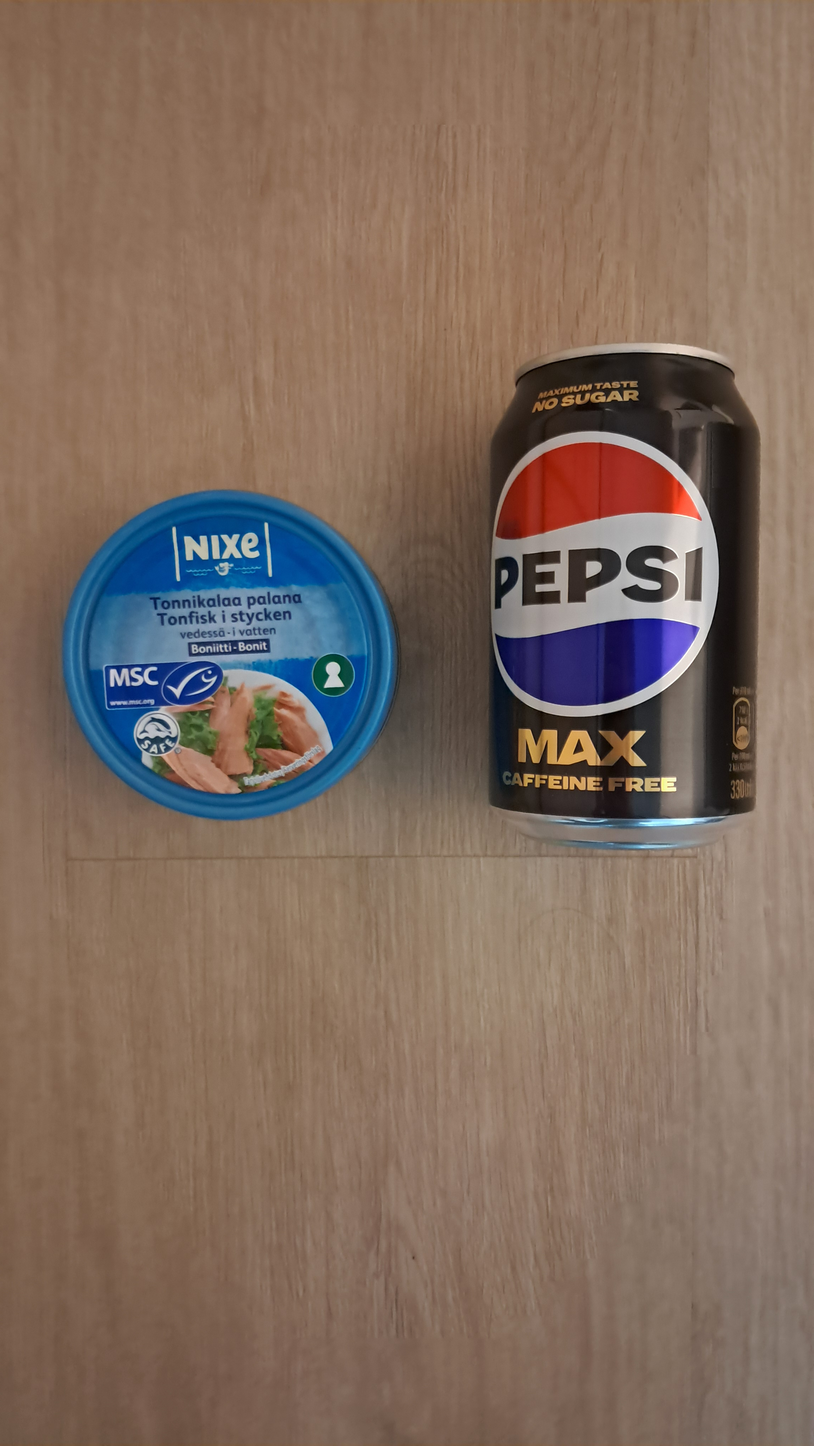Konservburk: (65, 489, 400, 835)
Pantburk: (482, 339, 758, 850)
